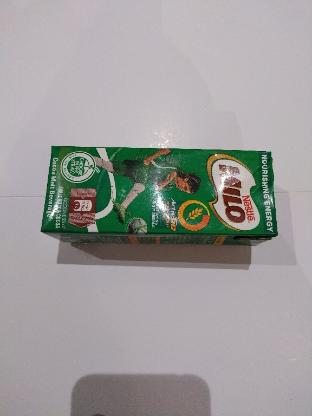Others: (41, 147, 278, 245)
